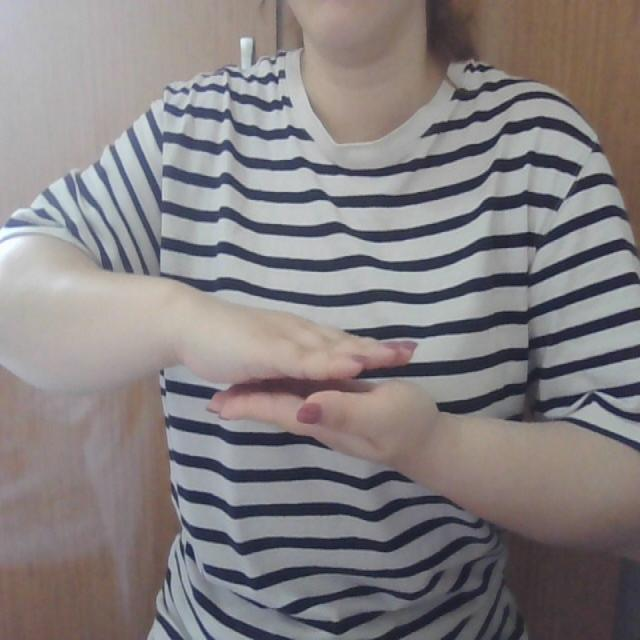Arkadas: (85, 302, 572, 458)
